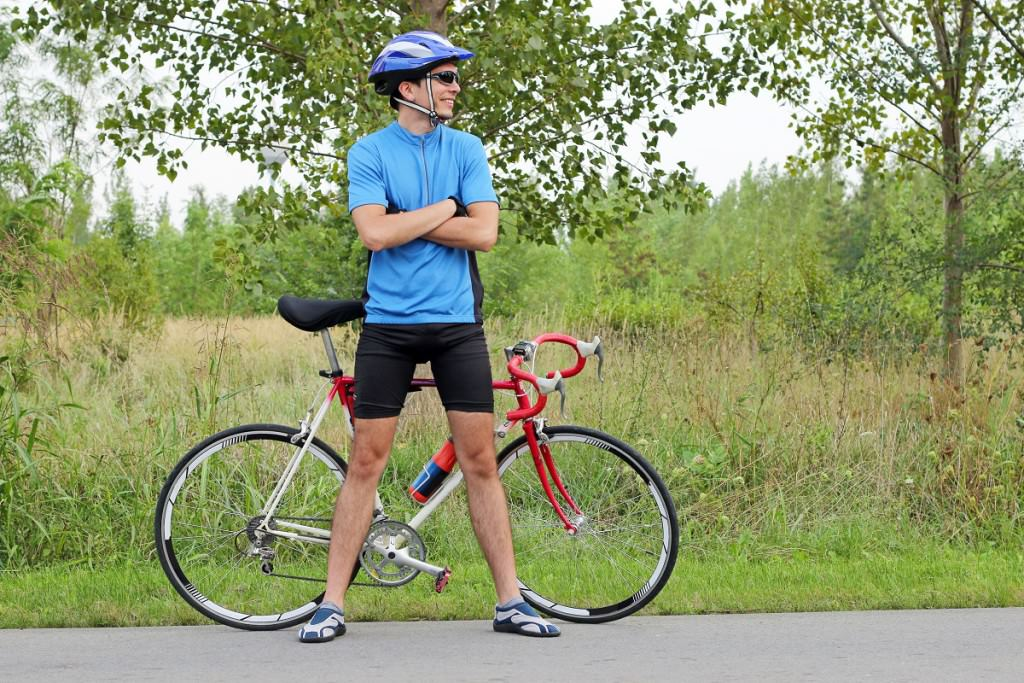helmet: (365, 28, 471, 78)
